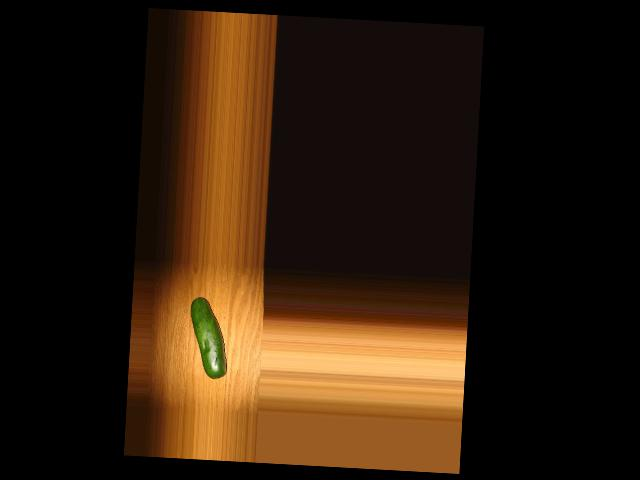cucumber: (187, 296, 230, 378)
